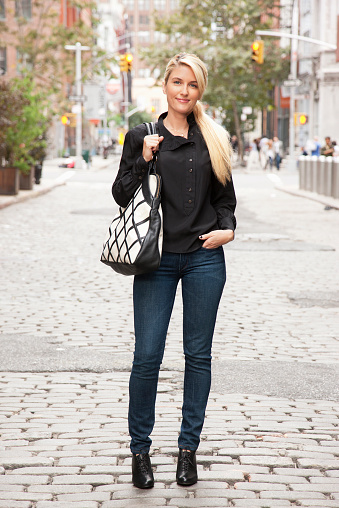em pe: (101, 46, 250, 492)
